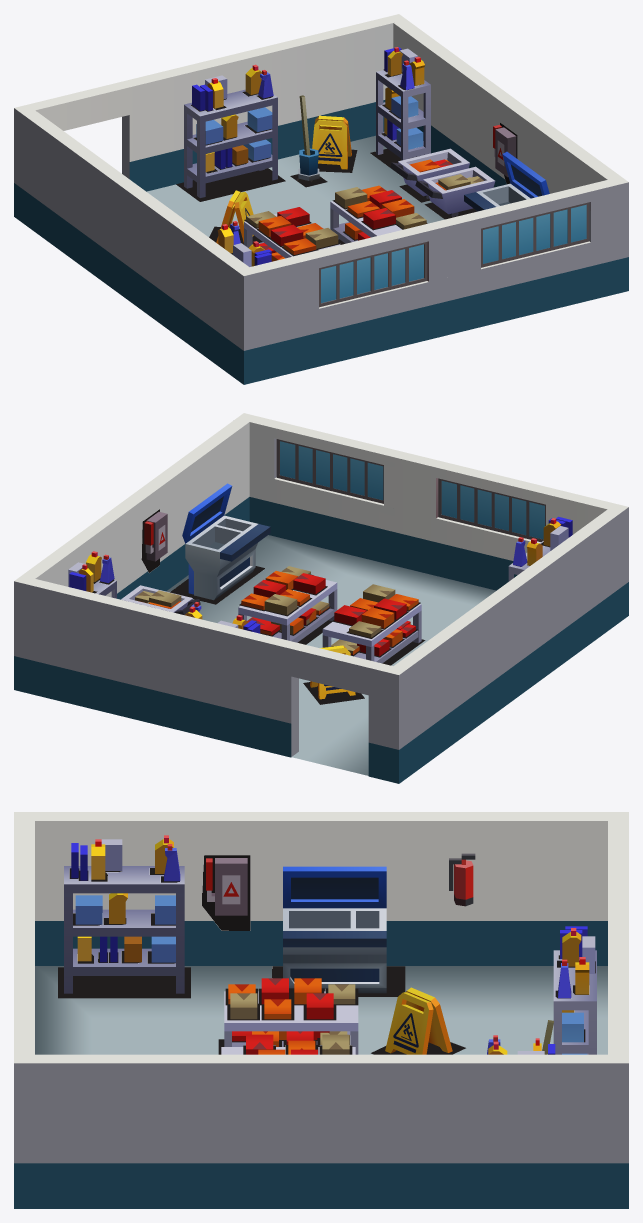
File: laundry.fbx
3 renders of one model, top to bottom at view 1: azimuth 30°, elevation 25°; view 2: azimuth 150°, elevation 25°; view 3: azimuth 270°, elevation 25°, orthographic. The views are drawn at different scales.
Visible parts, largest first — view 1: laundry model, shadow; view 2: laundry model, shadow; view 3: laundry model, shadow.
Boxes of the visible parts, box(x1,y1,x2,y2) form: laundry model: box(14, 14, 628, 384); shadow: box(176, 69, 517, 256); laundry model: box(14, 413, 628, 783); shadow: box(92, 509, 549, 704); laundry model: box(14, 812, 628, 1208); shadow: box(58, 855, 595, 1054).
Size of the model in its own units: 998 by 1031 by 270.
2 materials, 2 textured.
